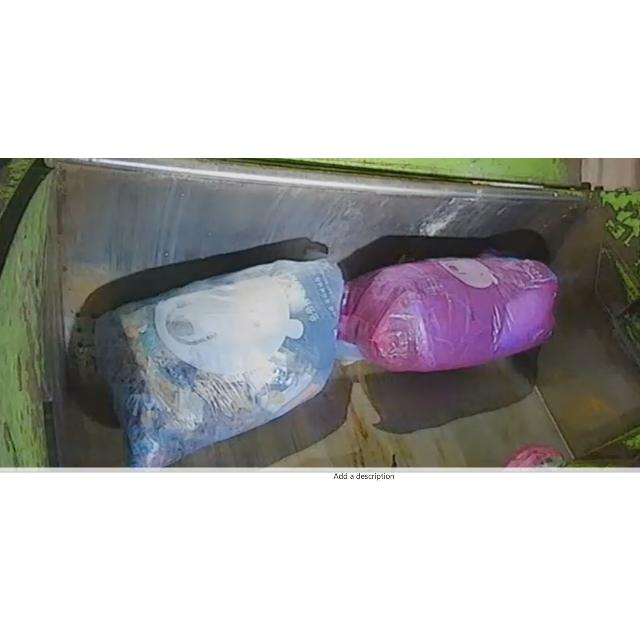other_trashbag: (95, 257, 344, 467), (339, 256, 558, 371)
